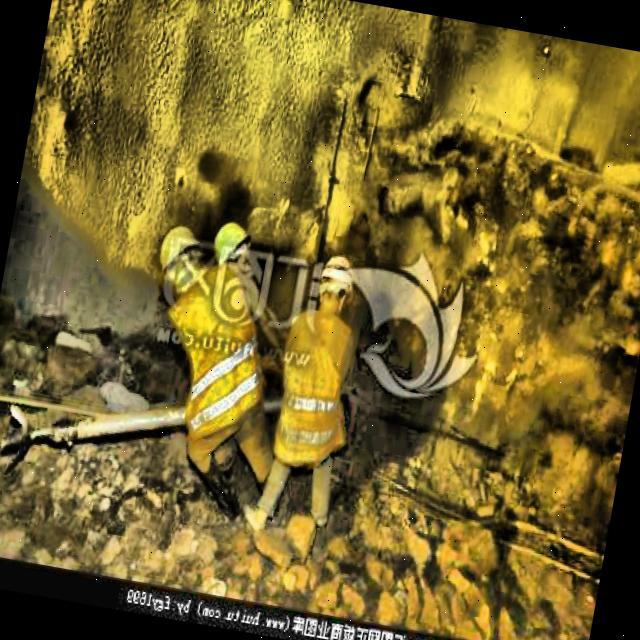helmet: (154, 222, 218, 304), (200, 208, 256, 297), (311, 250, 362, 316)
